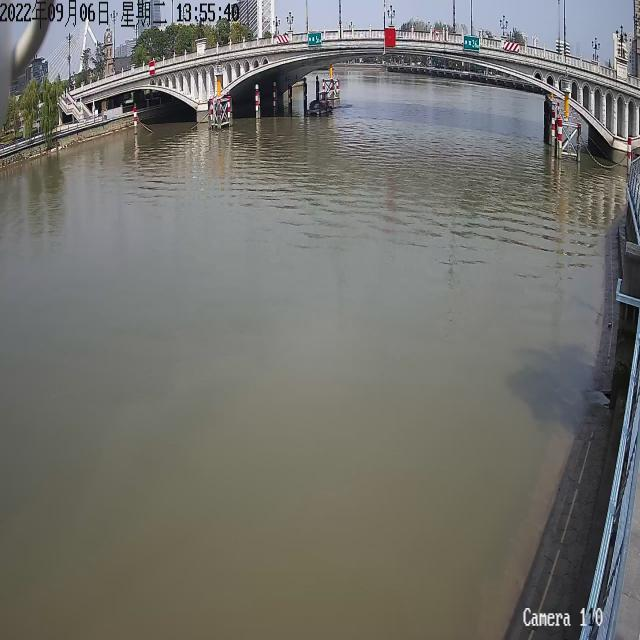ship: (306, 90, 332, 114)
